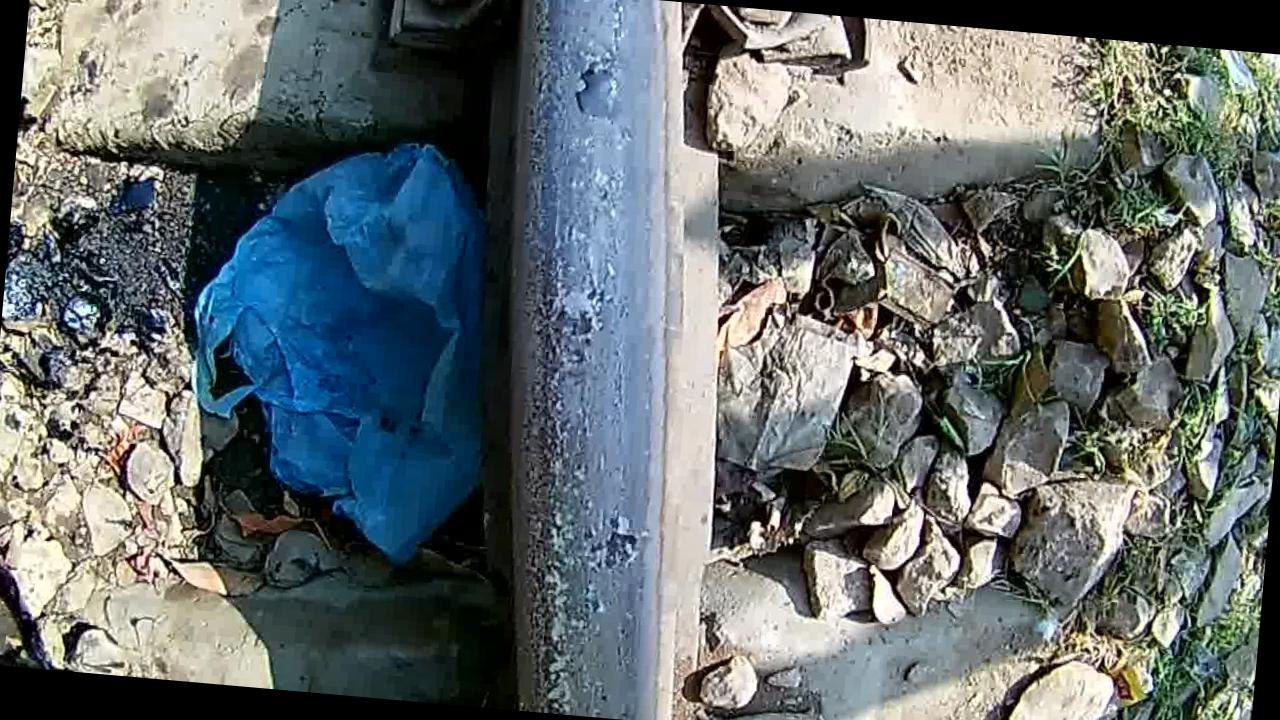crack: (470, 0, 686, 720)
